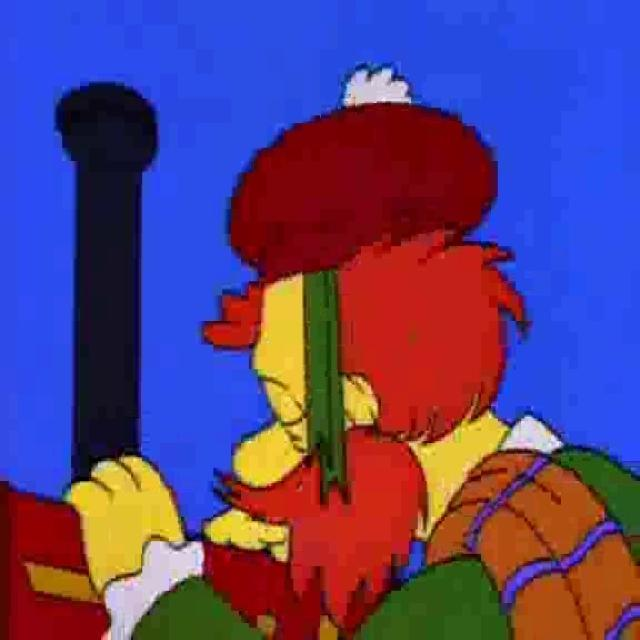Groundskeeper Willie: (208, 239, 516, 616)
